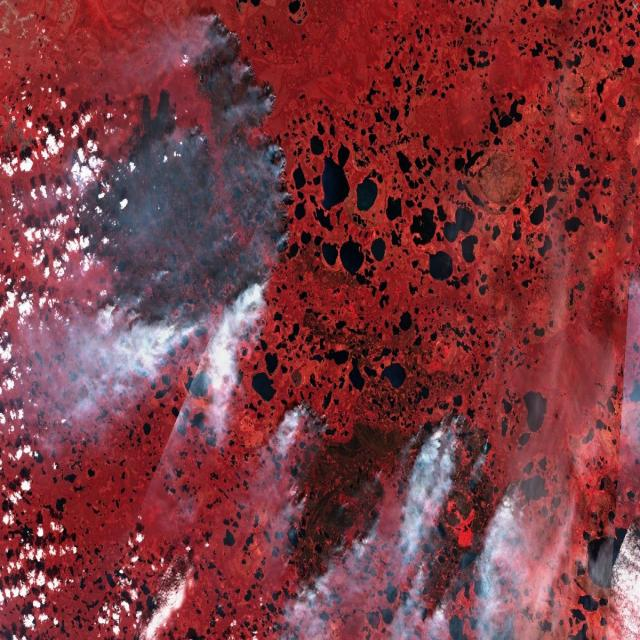fire: (100, 278, 286, 370), (203, 10, 280, 120), (252, 136, 306, 258), (413, 401, 497, 469), (334, 500, 394, 577), (499, 467, 547, 529), (283, 391, 337, 446), (277, 476, 316, 524), (364, 458, 388, 486)
